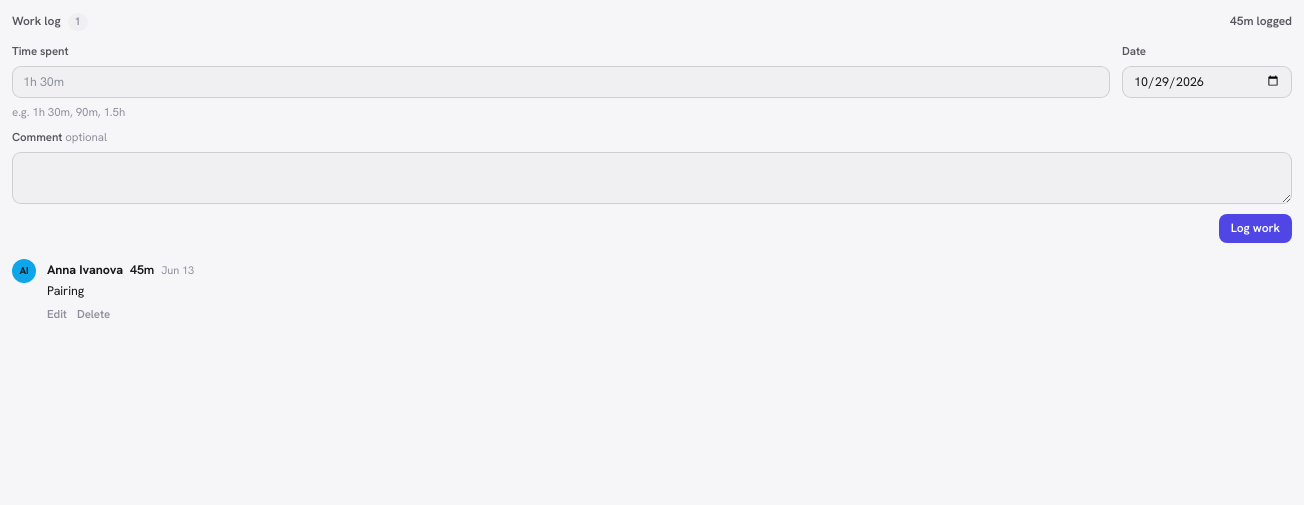
it: the work log section › sends nothing for an edit that changed nothing
Click the button with aria-label "Edit 45m logged": (57, 314) [43, 300, 71, 328]
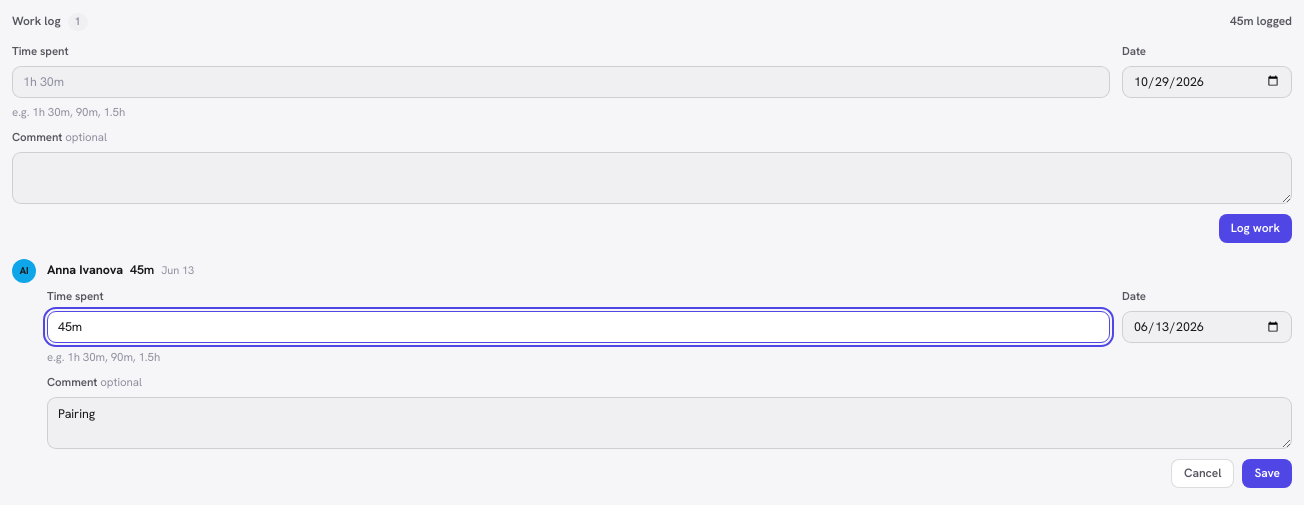
Click the button "Save": (1267, 474) [1242, 459, 1292, 488]
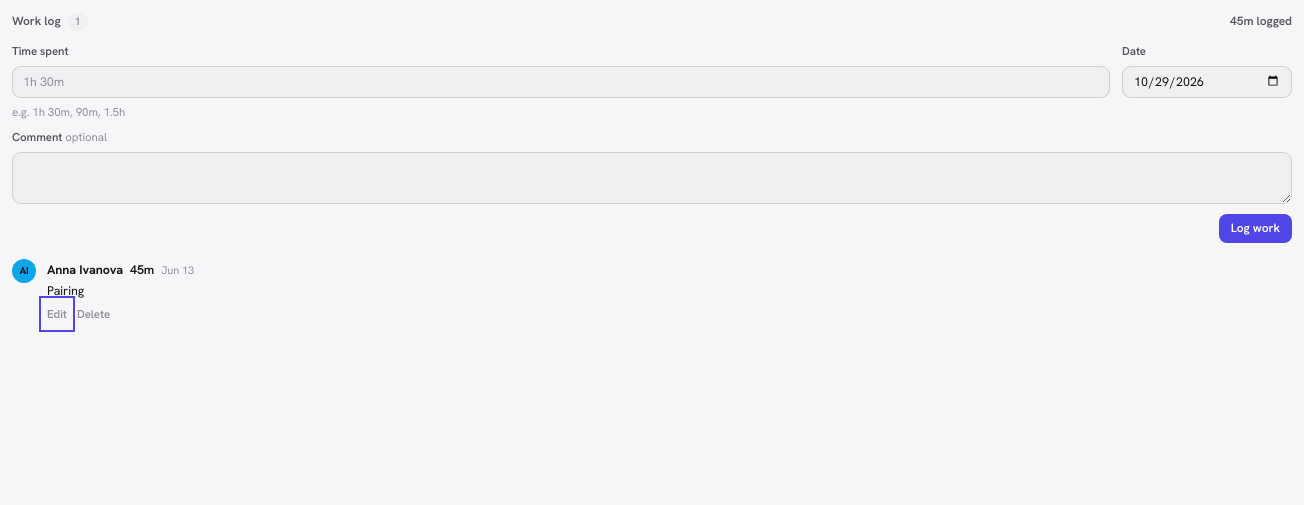
Check: the button "Save" is gone
